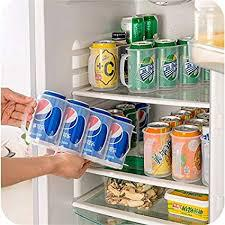beer: (124, 40, 203, 86)
